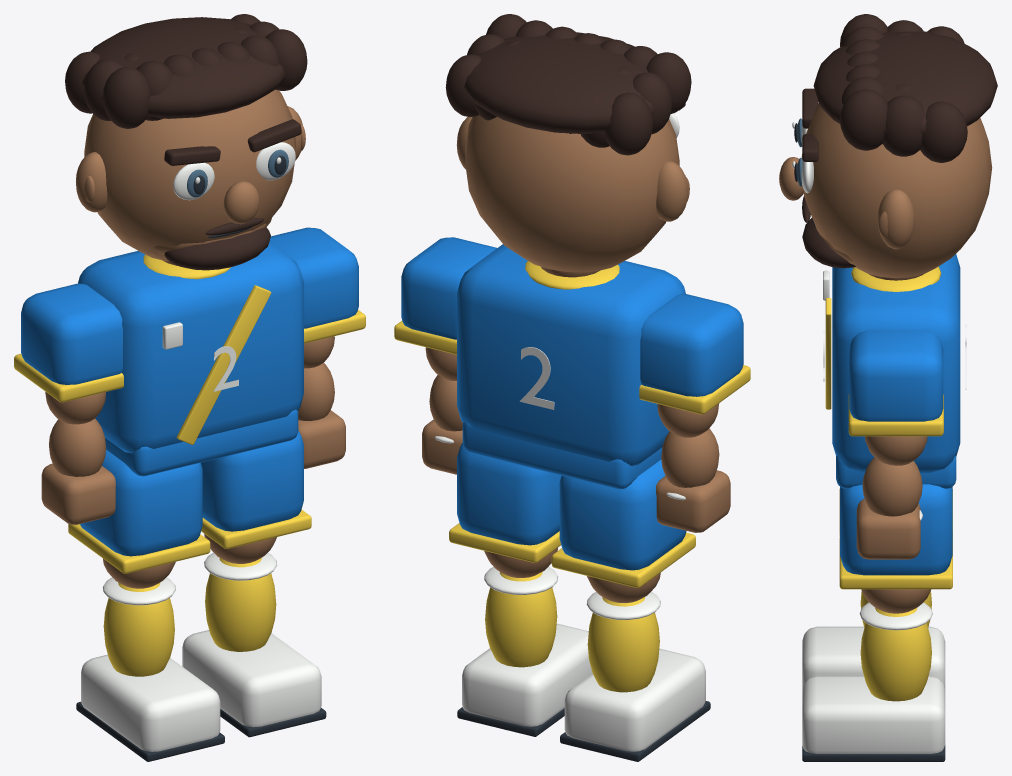
The model's file is Kaya.fbx.
3 views of the same model, side by side, from view 1: azimuth 30°, elevation 25°; view 2: azimuth 150°, elevation 25°; view 3: azimuth 270°, elevation 25° (orthographic).
Parts seen in each view (by area): view 1: Torso, Head, HairCap, Boot_Left, Boot_Right, Sleeve_Left, Shorts_Left, Shorts_Right, Sleeve_Right, Sock_Right, Sock_Left, Waist (+31 smaller); view 2: Torso, Head, HairCap, Shorts_Left, Sleeve_Left, Boot_Left, Shorts_Right, Boot_Right, Sleeve_Right, Sock_Right, Sock_Left, Waist (+24 smaller); view 3: Head, Torso, Boot_Right, HairCap, Sleeve_Right, Shorts_Right, Sock_Right, Boot_Left, Hand_Right, Forearm_Right, Curl.020, Curl.006 (+19 smaller).
Part boxes in pixels (x1,y1,x2,y2): Torso: (78,242,303,453); Head: (84,89,295,261); HairCap: (82,17,285,118); Boot_Left: (81,654,220,751); Boot_Right: (182,630,321,727); Sleeve_Left: (21,283,122,384); Shorts_Left: (80,449,202,556); Shorts_Right: (201,430,303,531); Sleeve_Right: (269,227,358,328); Sock_Right: (205,558,276,651); Sock_Left: (103,582,174,676); Waist: (105,409,298,476); Torso: (457,244,685,465); Head: (465,115,679,272); HairCap: (464,32,672,133); Shorts_Left: (559,459,686,570); Sleeve_Left: (640,294,743,396); Boot_Left: (564,648,705,751); Shorts_Right: (457,443,561,545); Boot_Right: (462,623,592,726); Sleeve_Right: (401,237,496,339); Sock_Right: (485,572,557,667); Sock_Left: (587,597,659,692); Waist: (462,422,662,489); Head: (801,103,992,278); Torso: (832,254,960,472); Boot_Right: (802,676,945,753); HairCap: (813,31,997,134); Sleeve_Right: (849,330,943,421); Shorts_Right: (840,484,952,575); Sock_Right: (860,608,931,701); Boot_Left: (802,626,945,689); Hand_Right: (856,498,920,559); Forearm_Right: (862,457,922,516); Curl.020: (840,89,887,150); Curl.006: (920,101,967,162).
Bounding box in the file's own units: 93.71 × 195 × 57.97.
